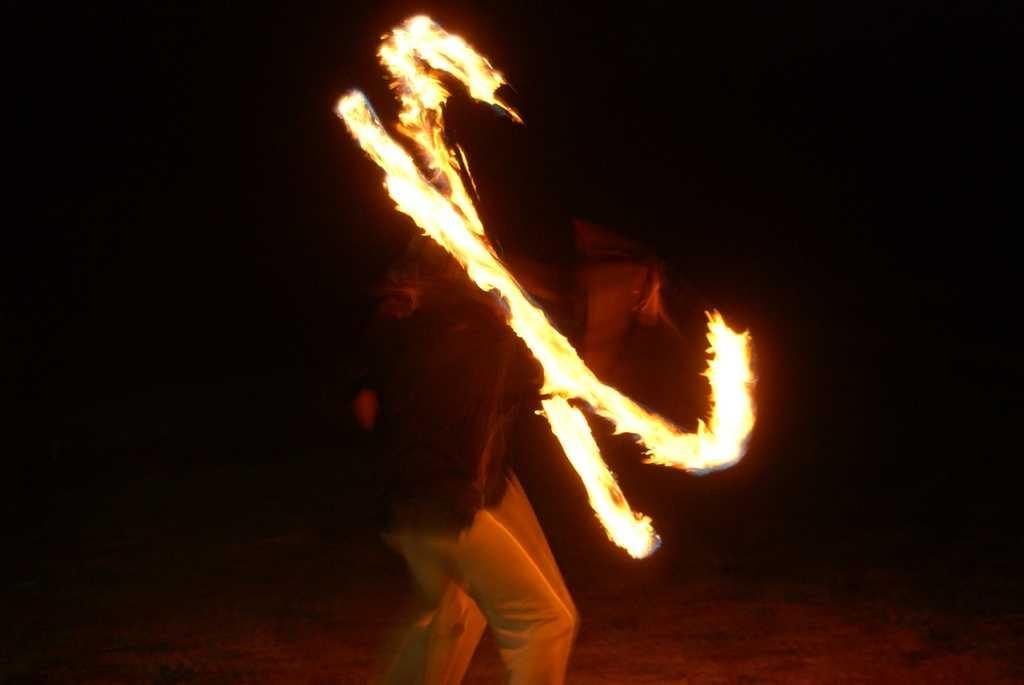fire: (384, 26, 494, 103), (703, 316, 755, 464), (388, 169, 465, 224), (553, 405, 608, 478), (530, 321, 591, 379), (598, 501, 659, 553), (342, 98, 386, 143)
